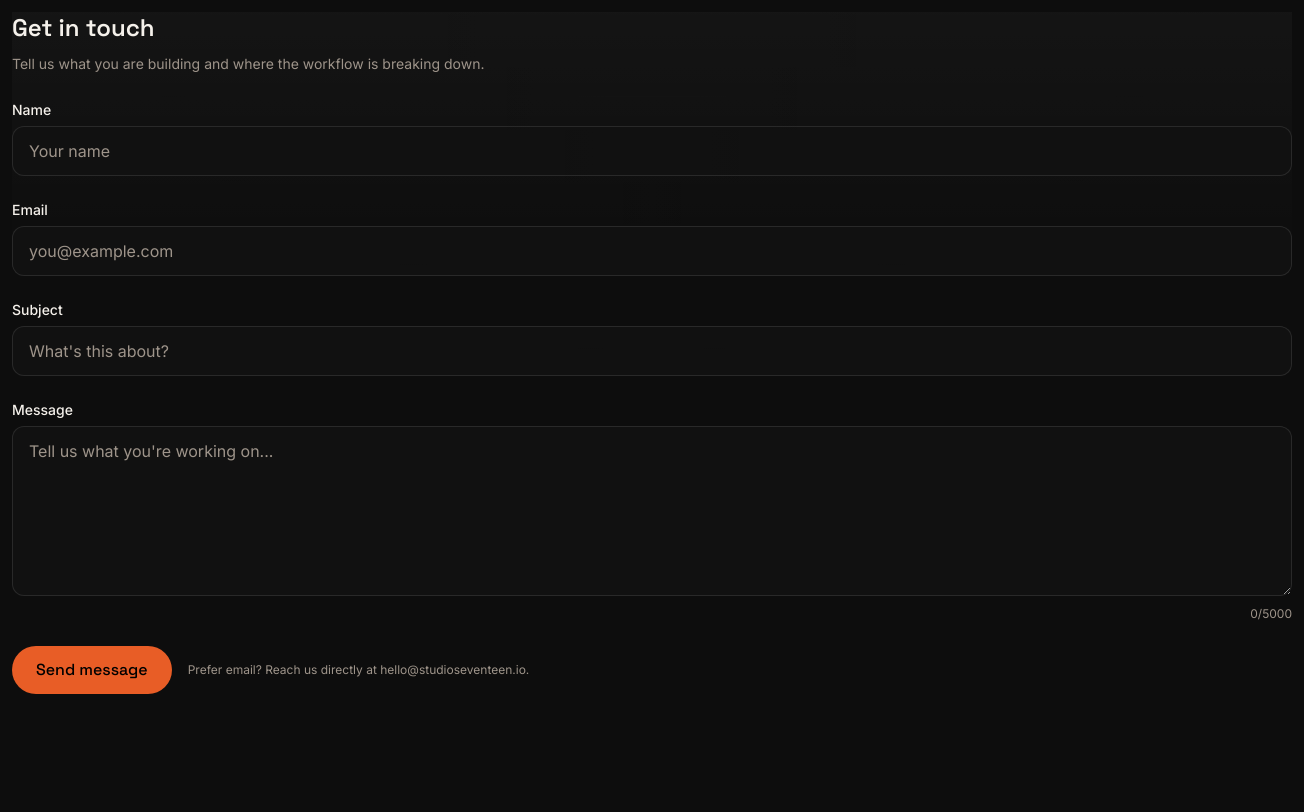
Test: ContactForm — submission › shows success state on 200
Type "Test User" into the field labelled "Name". click: (652, 151)
box: [12,126,1292,176]
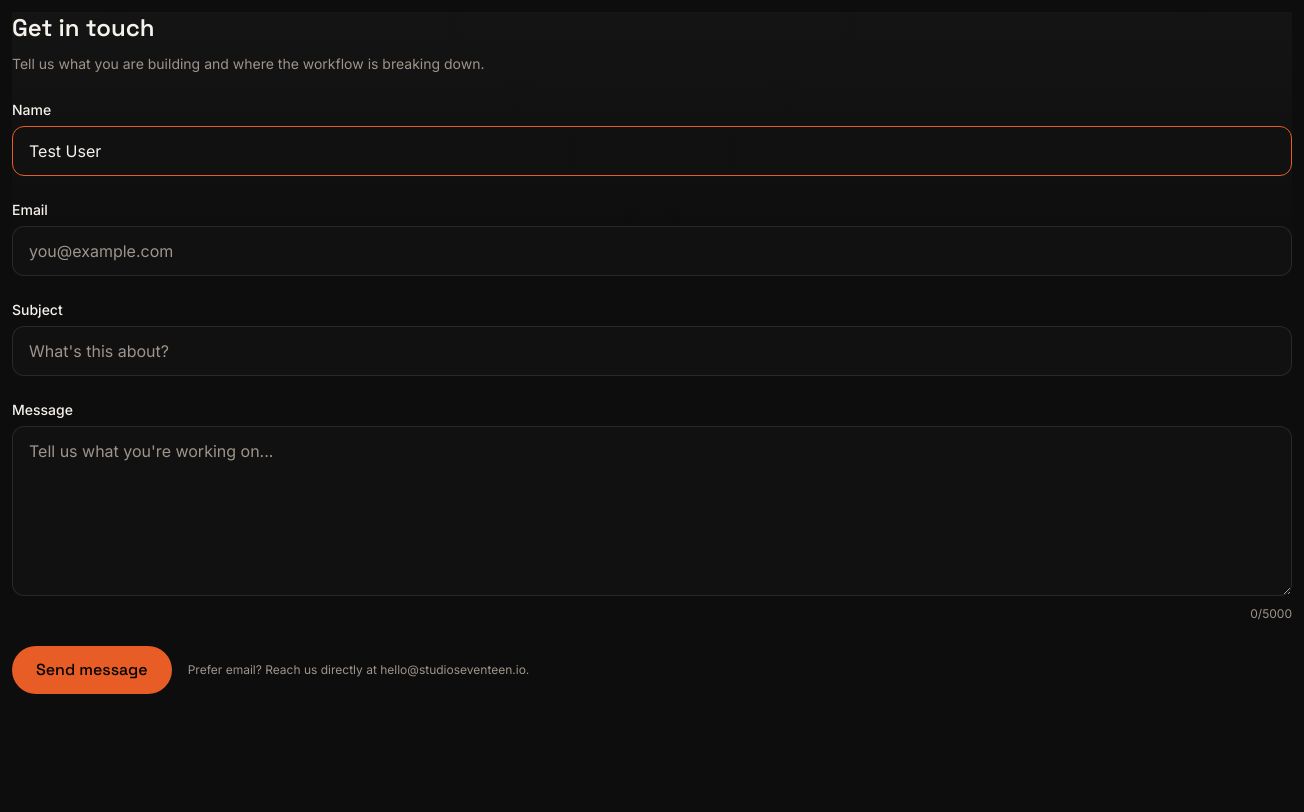
Type "test@example.com" into the field labelled "Email". click: (652, 251)
box: [12,226,1292,276]
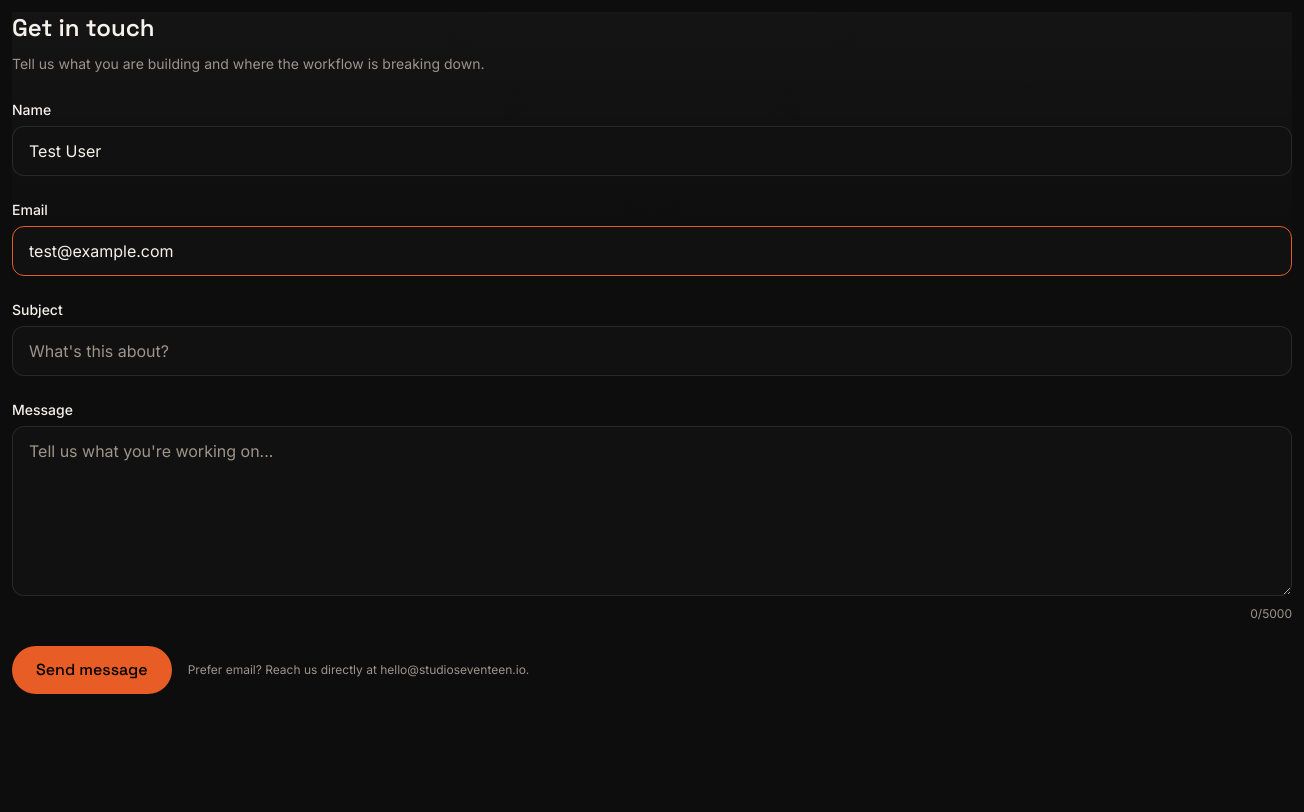
Type "Test Subject" into the field labelled "Subject". click: (652, 351)
box: [12,326,1292,376]
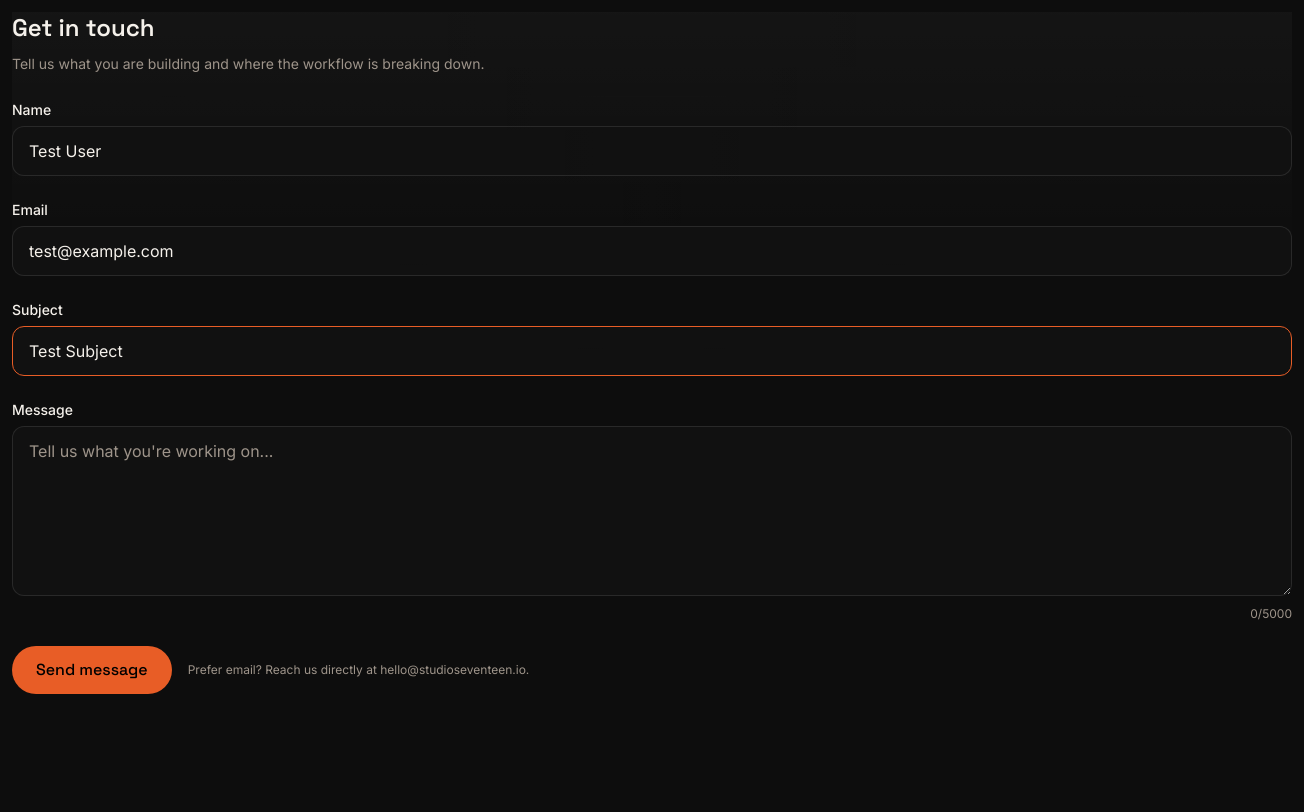
Type "This is a test message." into the text box labelled "Message". click: (652, 511)
box: [12,426,1292,596]
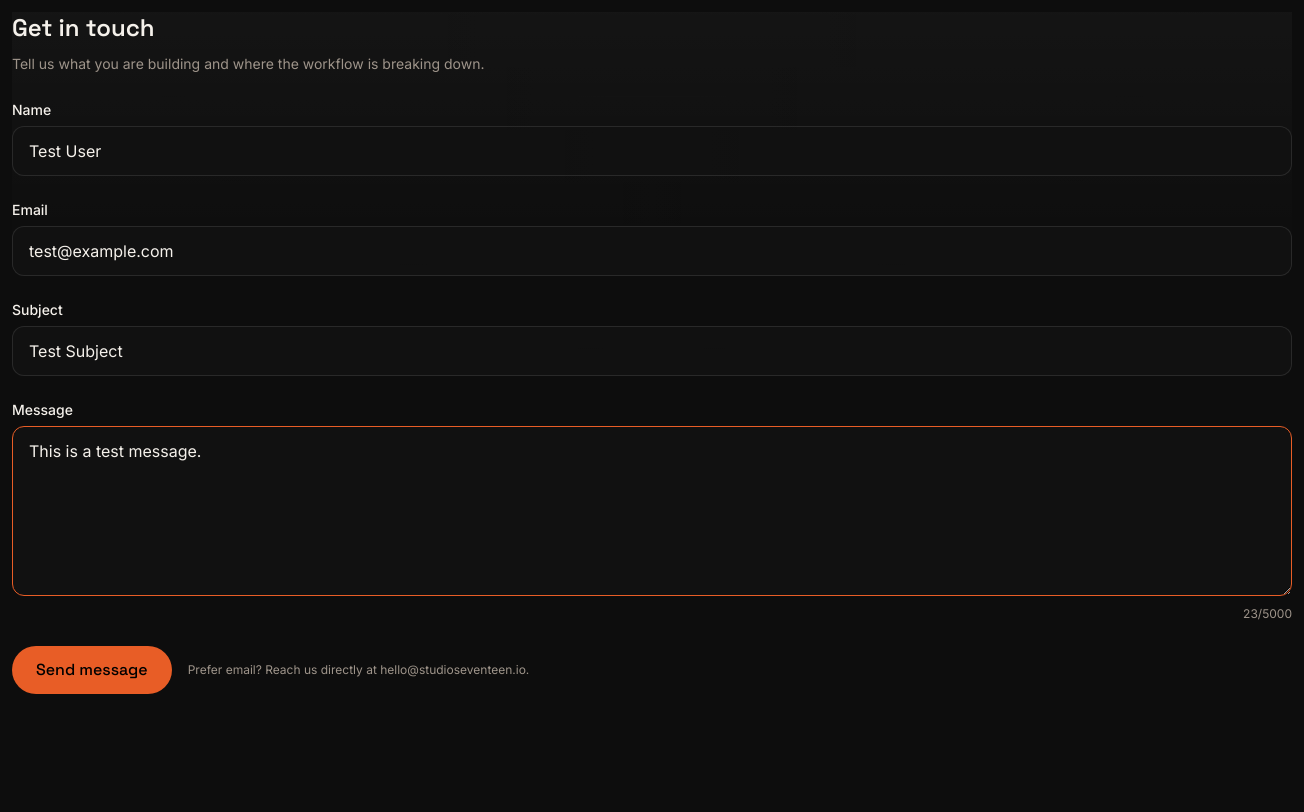
Click the button "Send message". click: click(92, 670)
box: [12,646,172,694]
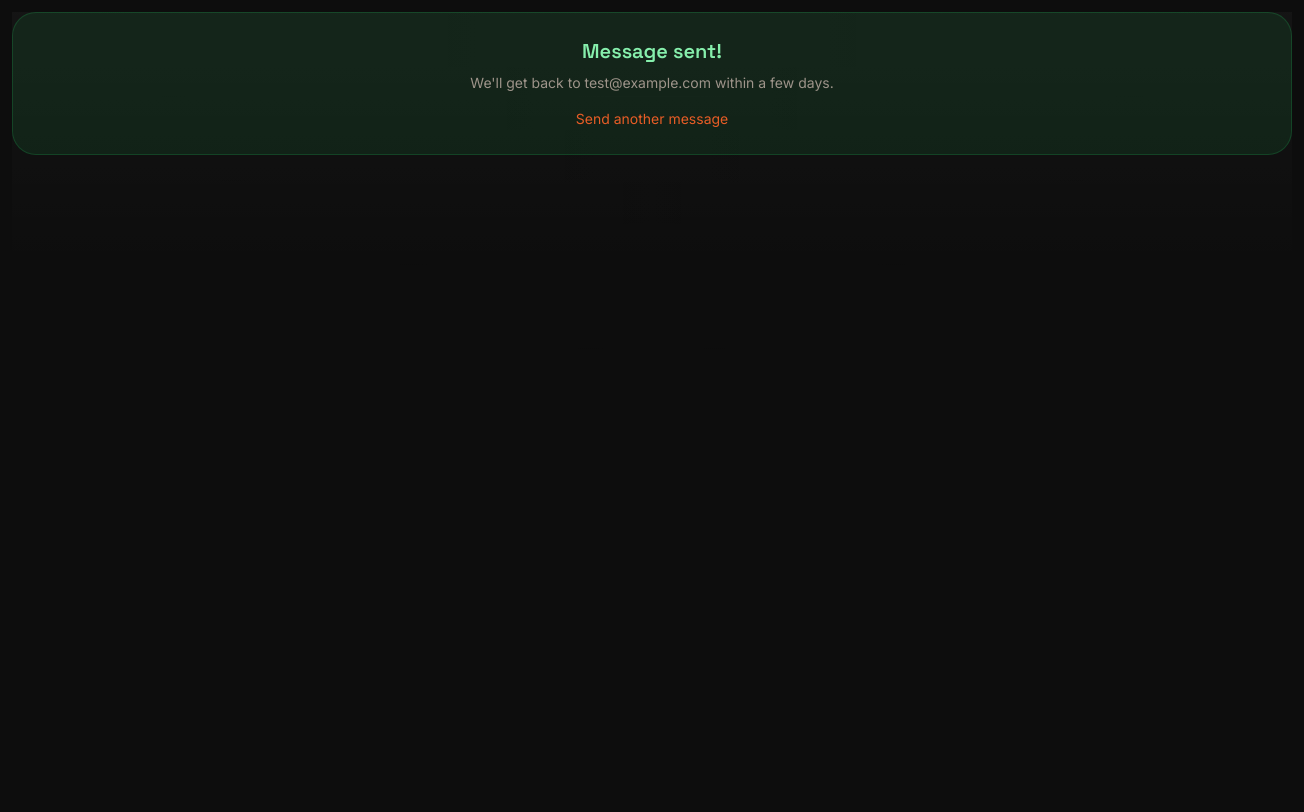
Expected: the text "Message sent!" is shown, [582,38,722,64]
